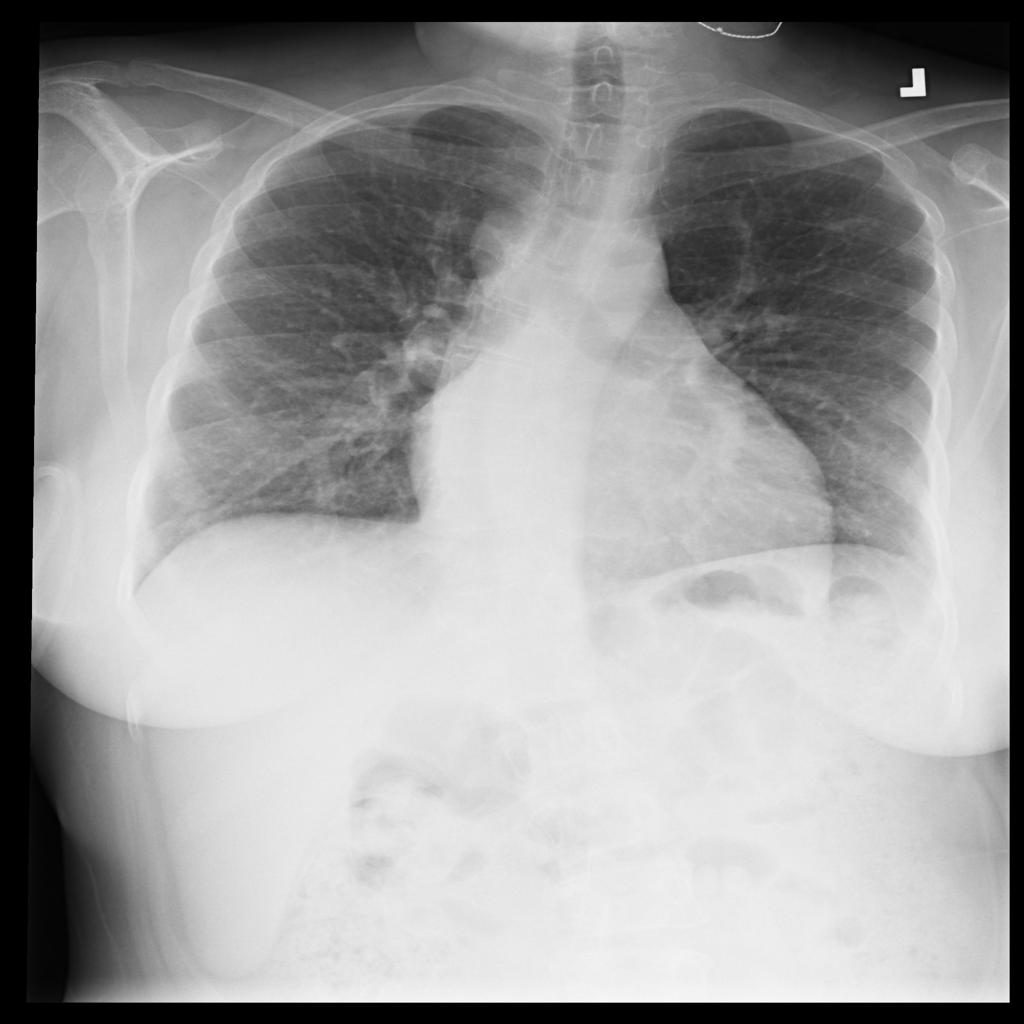Cardiomegaly: (383, 262, 858, 676)
